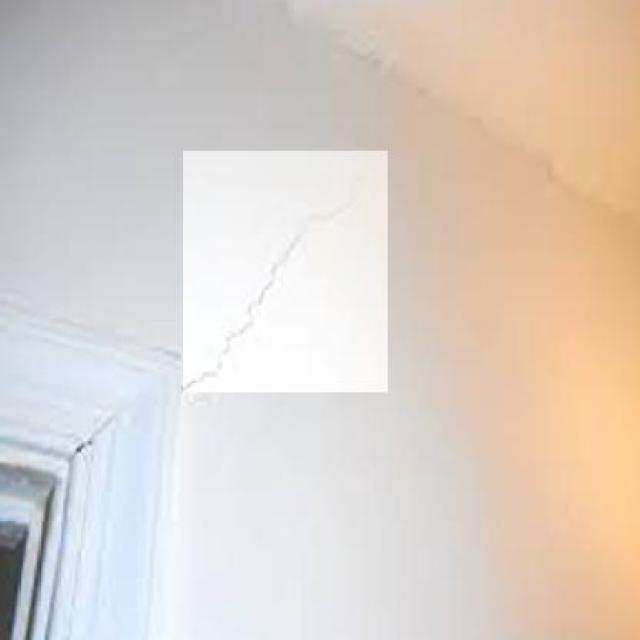Crack: (184, 194, 352, 390)
